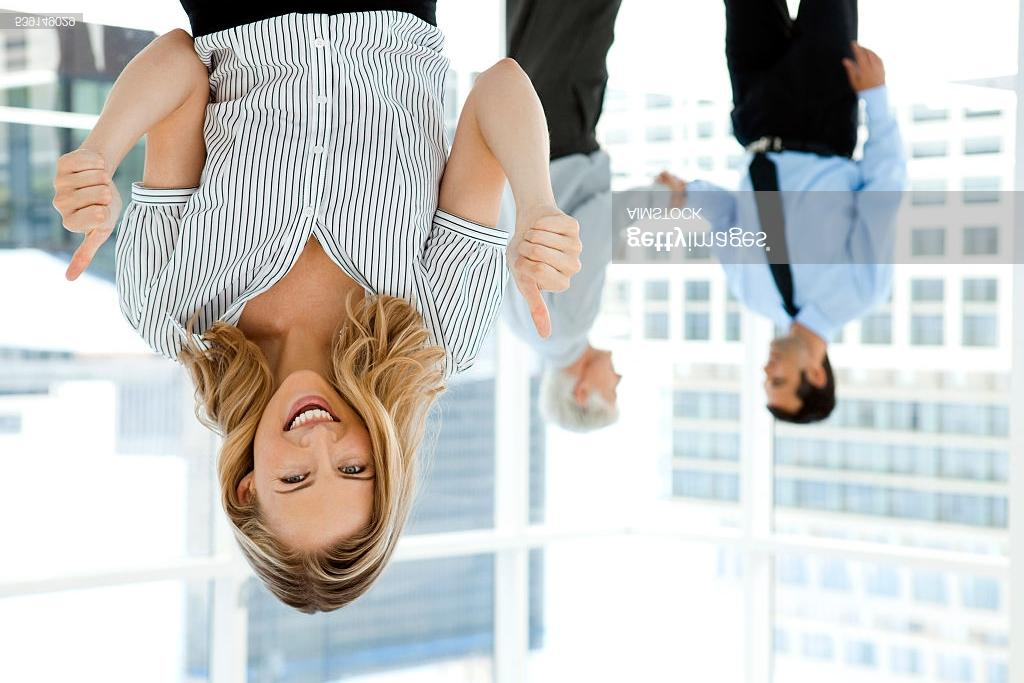thumbsdown: (513, 215, 583, 338), (52, 149, 116, 281)
